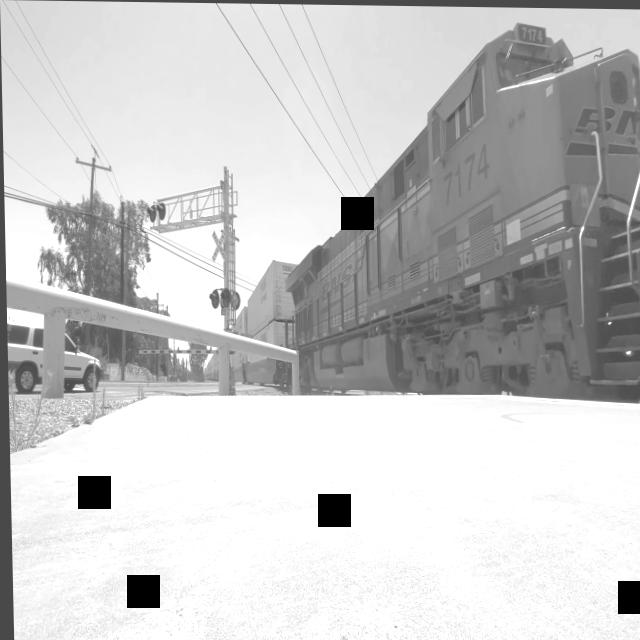container: (244, 256, 292, 339)
locomotive: (285, 9, 640, 414)
